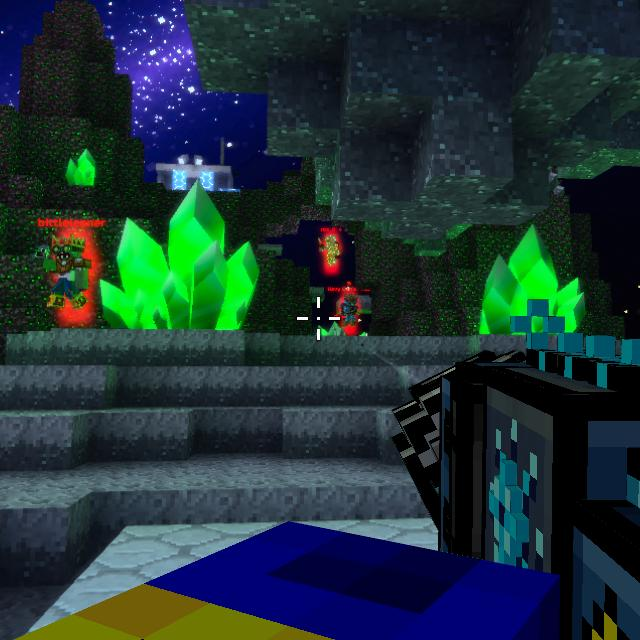Enemy: (52, 235, 94, 311), (340, 295, 359, 329), (321, 235, 339, 266)
